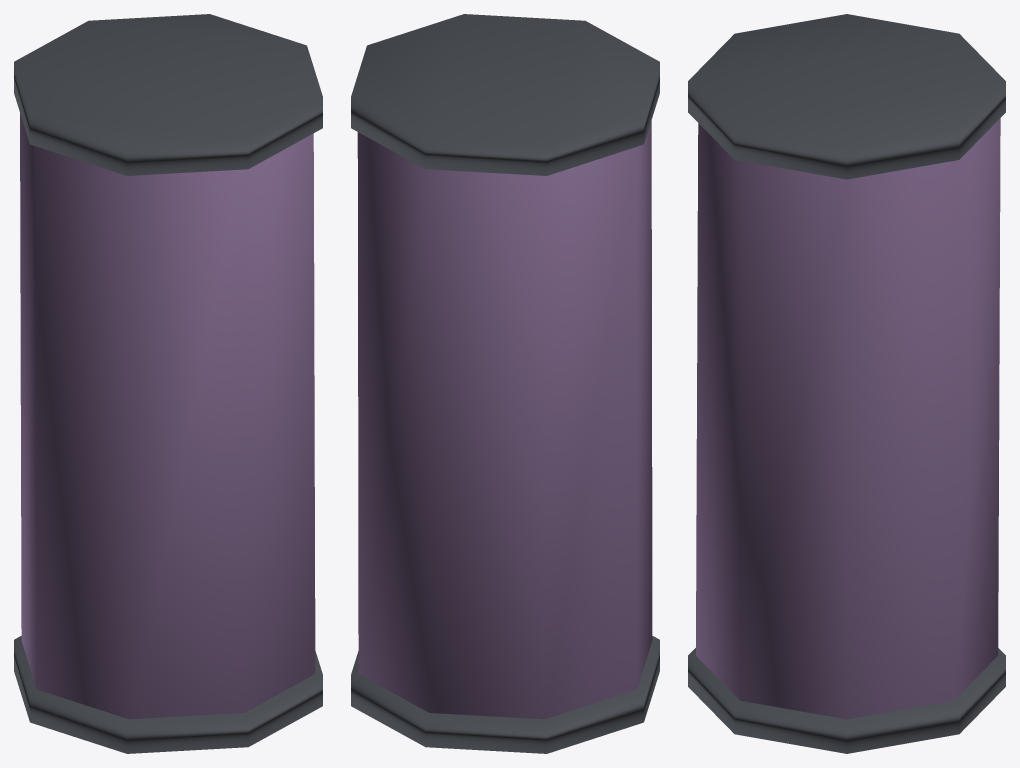
The model's file is SubGene_Purple.fbx.
3 renders of one model, left to right at view 1: azimuth 30°, elevation 25°; view 2: azimuth 150°, elevation 25°; view 3: azimuth 270°, elevation 25°, orthographic.
Parts seen in each view (by area): view 1: pCylinder1, pCylinder2, pCylinder3; view 2: pCylinder1, pCylinder2, pCylinder3; view 3: pCylinder1, pCylinder2, pCylinder3.
Part boxes in pixels (x1,y1,x2,y2): pCylinder1: (20, 113, 315, 719); pCylinder2: (14, 14, 322, 175); pCylinder3: (14, 636, 322, 753); pCylinder1: (357, 120, 652, 719); pCylinder2: (351, 14, 659, 175); pCylinder3: (351, 636, 659, 753); pCylinder1: (696, 118, 1000, 719); pCylinder2: (688, 14, 1005, 179); pCylinder3: (688, 648, 1005, 753).
Bounding box in the file's own units: 1.16 × 2.44 × 1.16.
